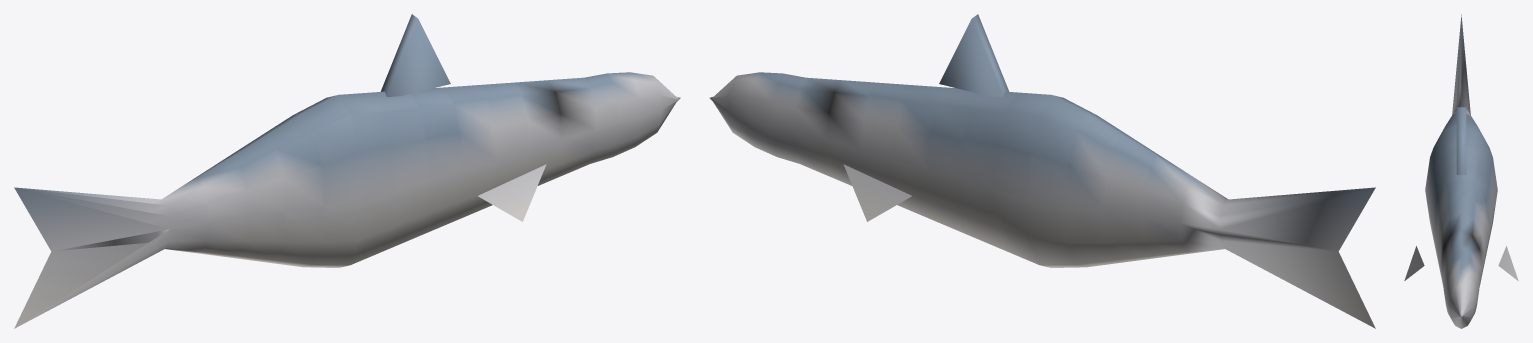
The model's file is Salmon.glb.
3 renders of one model, left to right at view 1: azimuth 30°, elevation 25°; view 2: azimuth 150°, elevation 25°; view 3: azimuth 270°, elevation 25°, orthographic. The views are drawn at different scales.
Parts seen in each view (by area): view 1: Salmon; view 2: Salmon; view 3: Salmon.
Part boxes in pixels (bbox=[...]): Salmon: bbox=[14, 14, 680, 328]; Salmon: bbox=[709, 14, 1375, 328]; Salmon: bbox=[1404, 14, 1518, 328].
Size of the model in its own units: 1.43 by 0.4775 by 0.28.
